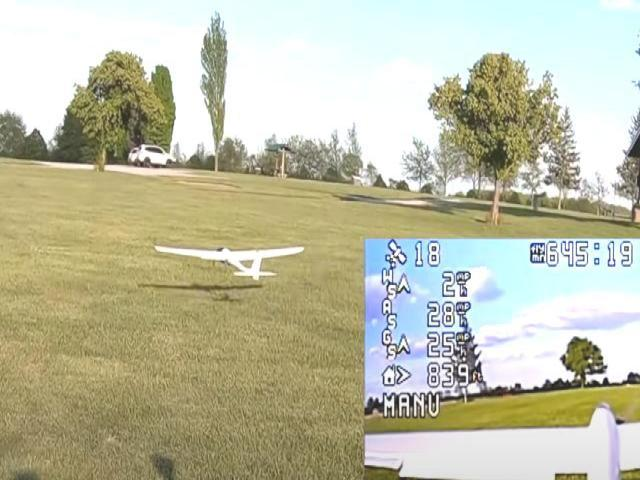iha: (155, 237, 308, 283)
